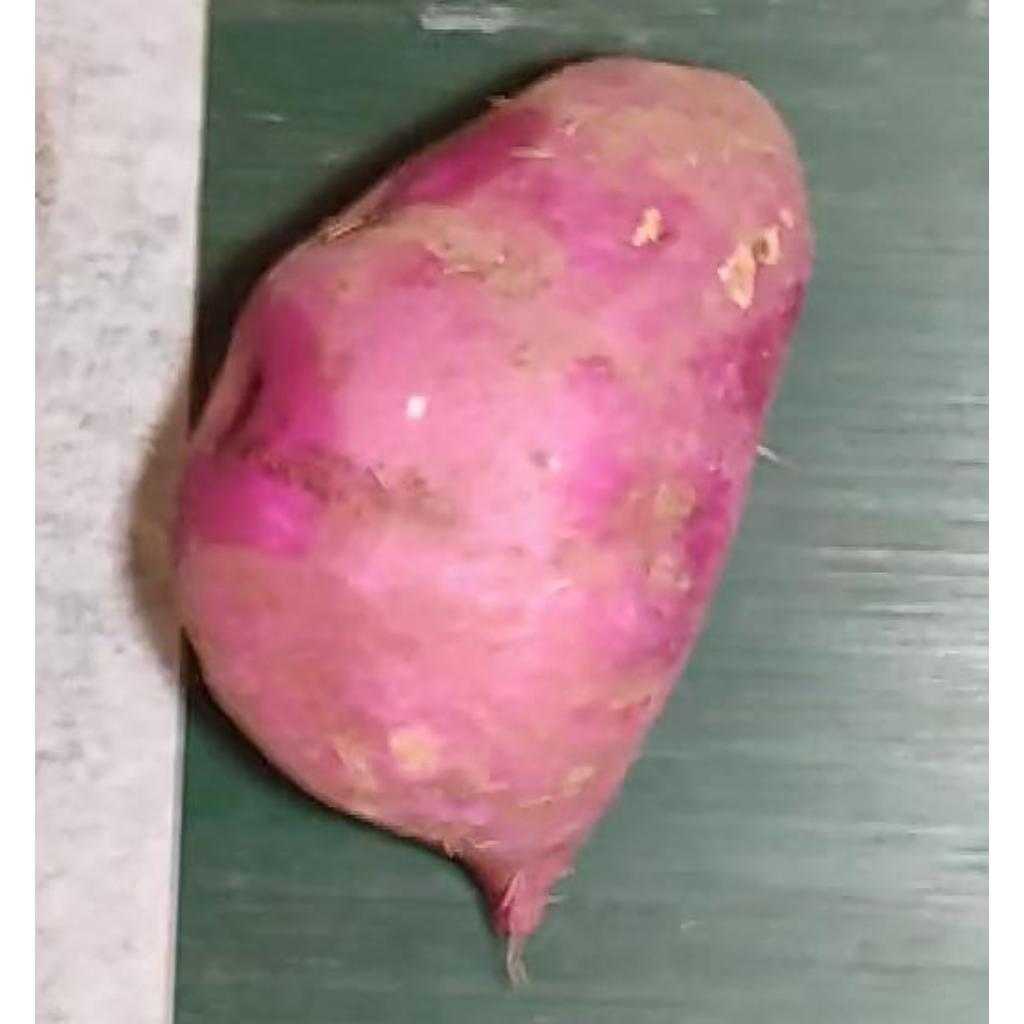Sweet Potato: (174, 55, 817, 896)
